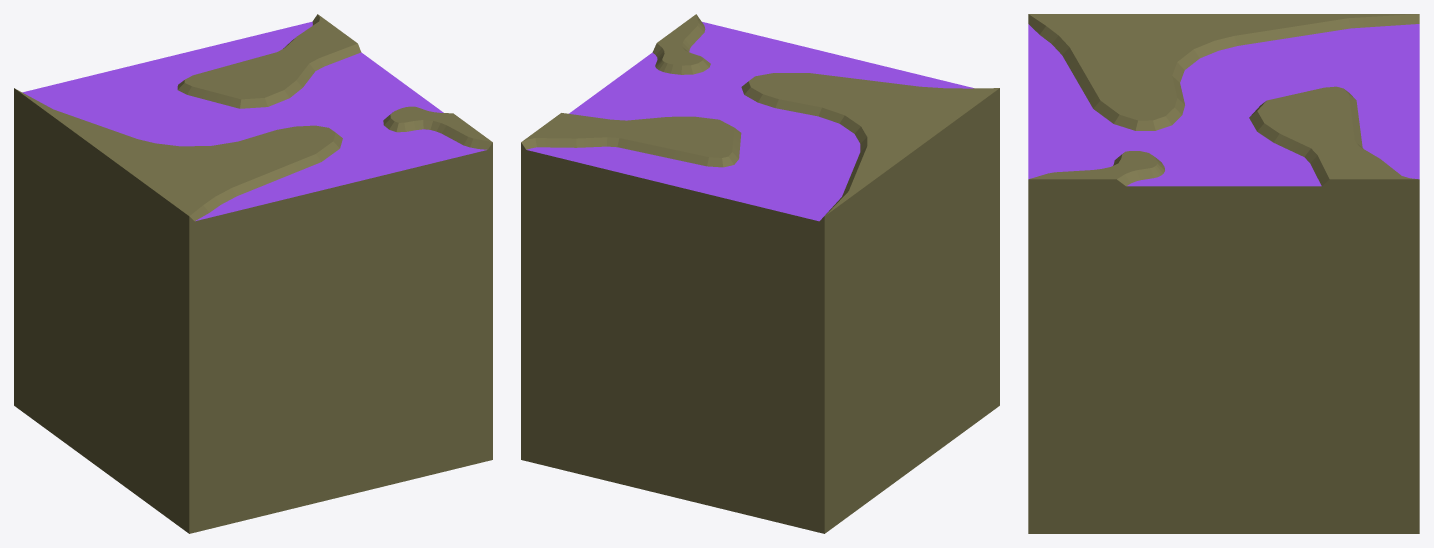
File: tile_toxic_5f_01.fbx
3 renders of one model, left to right at view 1: azimuth 30°, elevation 25°; view 2: azimuth 150°, elevation 25°; view 3: azimuth 270°, elevation 25°, orthographic. The views are drawn at different scales.
Parts seen in each view (by area): view 1: tile_toxic_5f_01; view 2: tile_toxic_5f_01; view 3: tile_toxic_5f_01.
Boxes of the visible parts, x1,y1,x2,y2 form: tile_toxic_5f_01: [14, 14, 492, 533]; tile_toxic_5f_01: [521, 14, 999, 533]; tile_toxic_5f_01: [1028, 14, 1419, 533].
Size of the model in its own units: 100 by 100 by 100.
